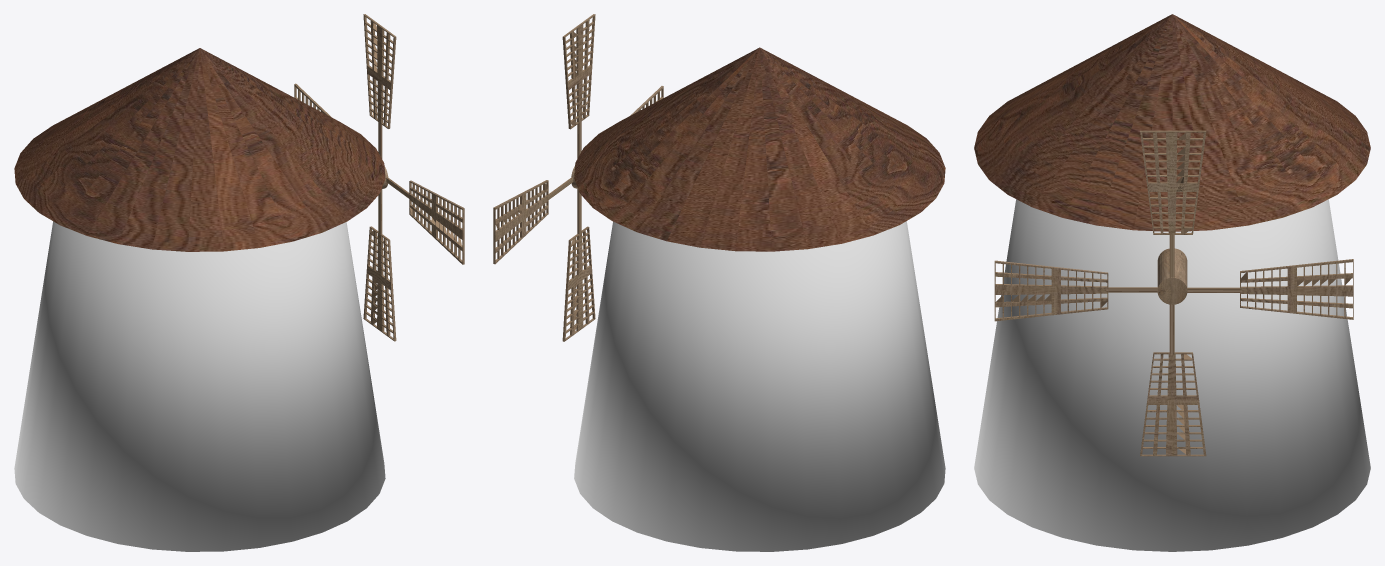
The model's file is Molino.fbx.
3 views of the same model, side by side, from view 1: azimuth 30°, elevation 25°; view 2: azimuth 150°, elevation 25°; view 3: azimuth 270°, elevation 25° (orthographic). The views are drawn at different scales.
Visible parts, largest first — view 1: Base, Techo, Aspas, Aspas.002, Aspas.001; view 2: Base, Techo, Aspas, Aspas.003, Aspas.001; view 3: Base, Techo, Aspas, Aspas.001, Aspas.002, Aspas.003, RotorMolino.
Part boxes in pixels (x1,y1,x2,y2): Base: (14,221,385,551); Techo: (14,48,385,251); Aspas: (363,189,396,341); Aspas.002: (386,177,464,264); Aspas.001: (363,14,396,158); Base: (574,221,945,551); Techo: (574,47,945,251); Aspas: (562,189,595,341); Aspas.003: (493,177,573,264); Aspas.001: (562,14,595,158); Base: (974,199,1370,551); Techo: (974,14,1370,231); Aspas: (1140,304,1206,456); Aspas.001: (1140,130,1206,277); Aspas.002: (994,260,1157,321); Aspas.003: (1187,259,1353,319); RotorMolino: (1157,248,1187,304).
Bounding box in the file's own units: 14133 × 16780 × 13288.
